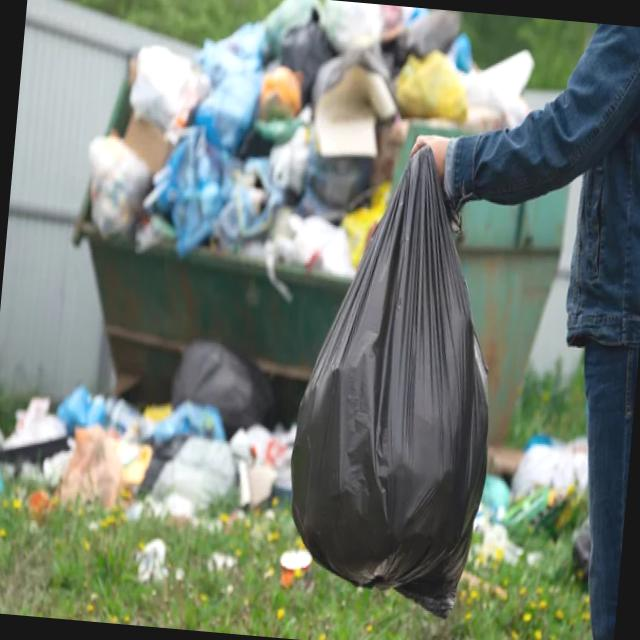garbage: (73, 0, 390, 258), (0, 362, 247, 568)
